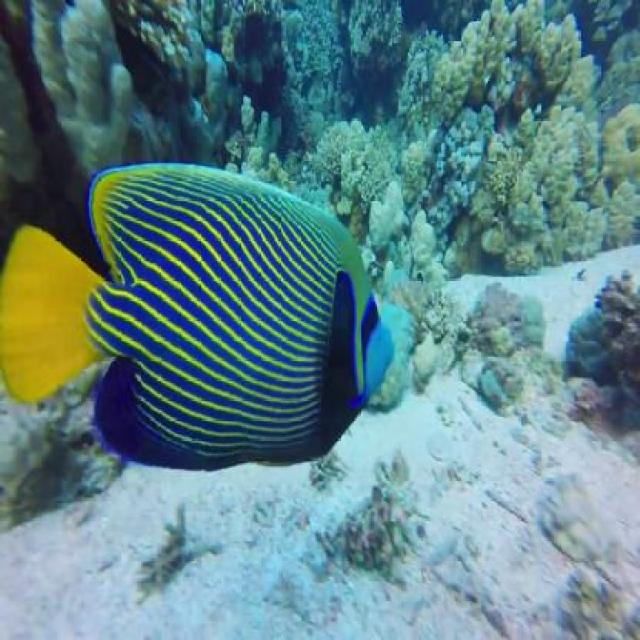AngelFish: (0, 160, 397, 468)
